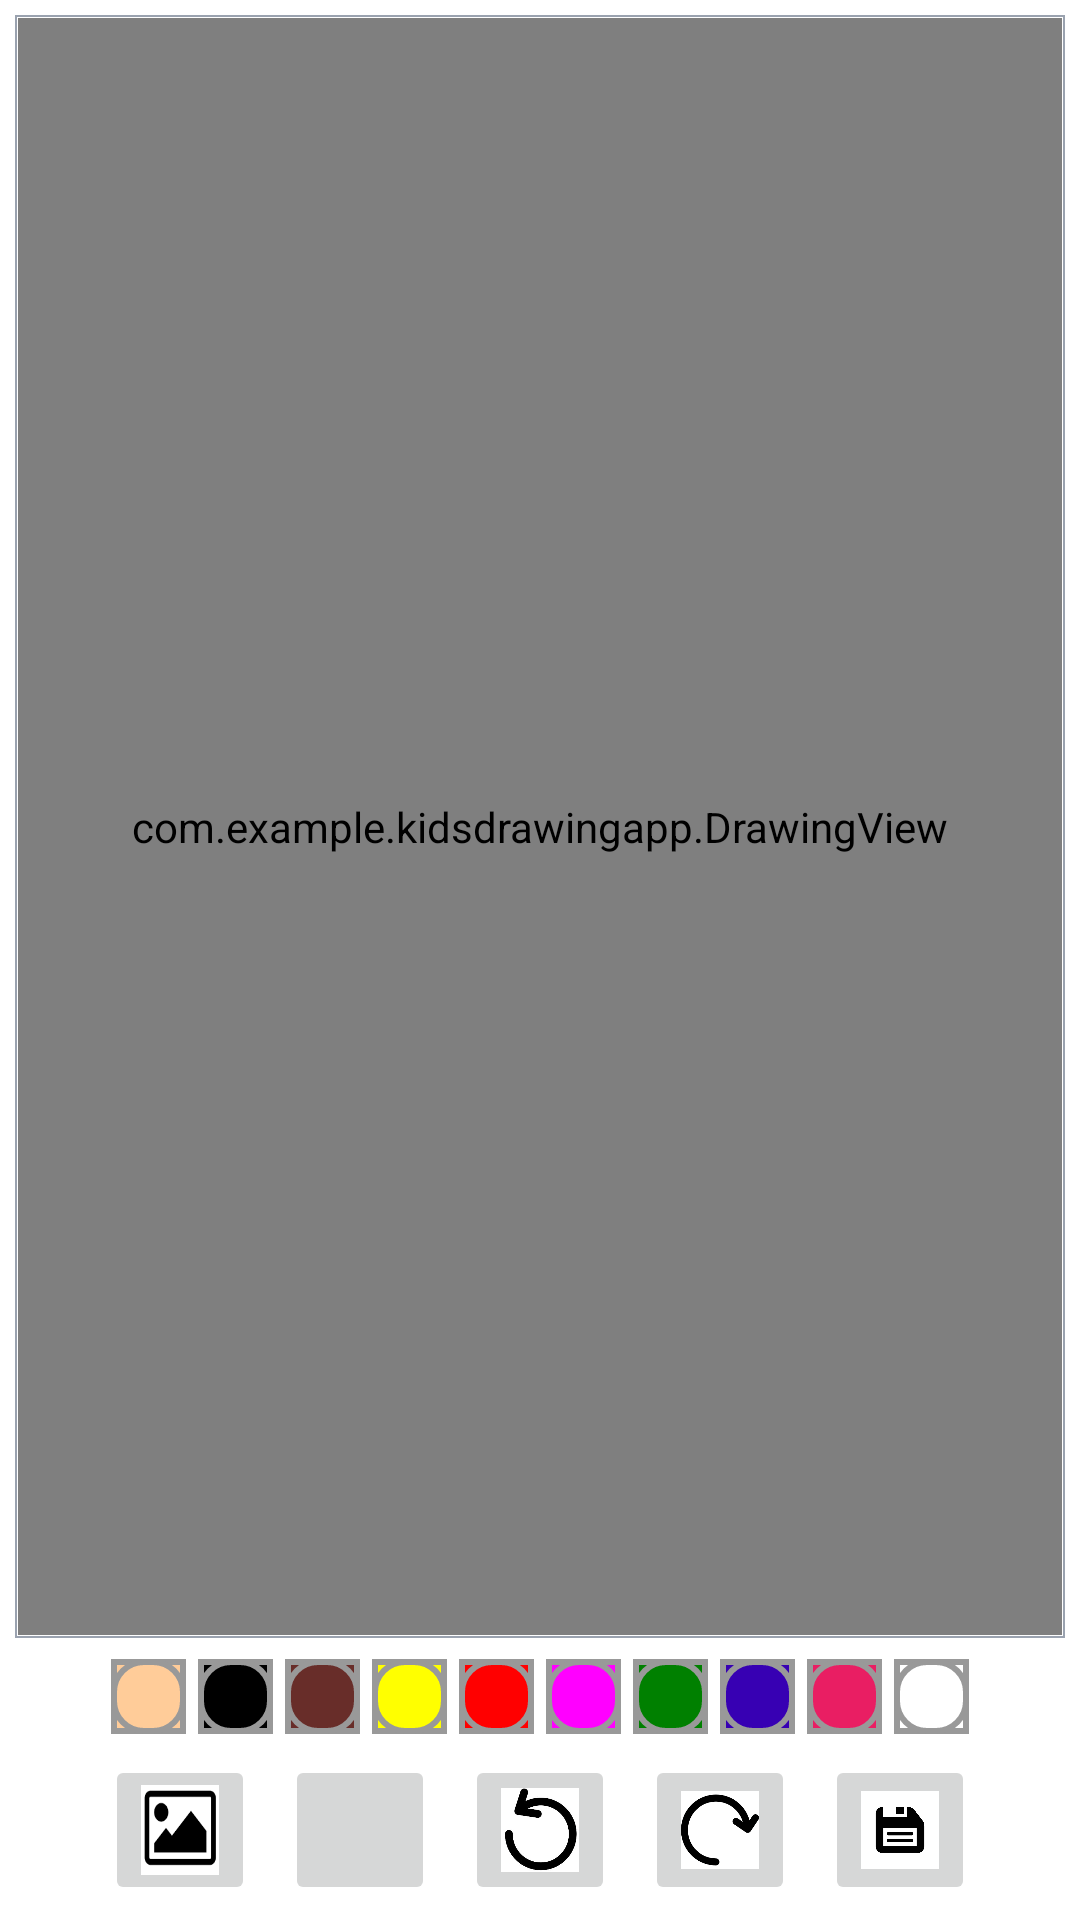

Where icons sit on this 1080w x 1920h app screen, as (x1, y1, x2, y2):
redo: (657, 1773, 783, 1887)
undo: (477, 1773, 603, 1887)
